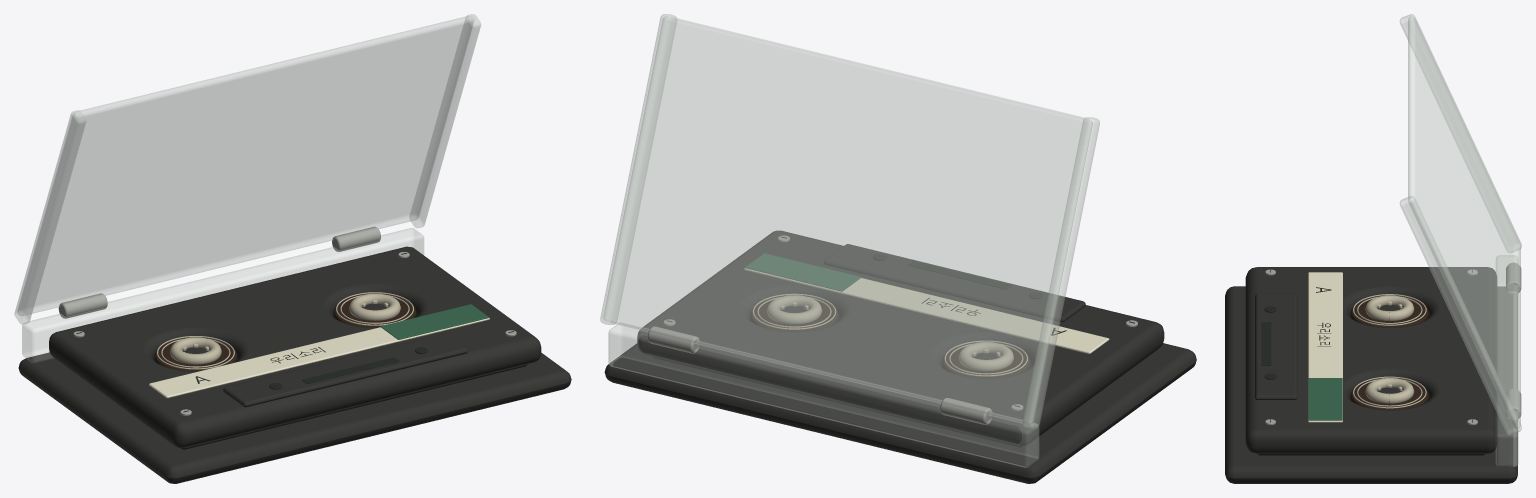
The picture shows the model from 3 angles, left to right: view 1: azimuth 30°, elevation 25°; view 2: azimuth 150°, elevation 25°; view 3: azimuth 270°, elevation 25°; orthographic projection. The views are drawn at different scales.
Visible parts, largest first — view 1: Clear cover pane, Compact cassette body, Cassette case base, Rear case spine, Raised head-access surround, Narrow adhesive label, Clear case edge, Clear case edge.001, Green label stripe, Toothed ivory hub.001, Toothed ivory hub, Visible ferric tape coil (+5 smaller); view 2: Clear cover pane, Compact cassette body, Cassette case base, Rear case spine, Raised head-access surround, Clear case edge, Clear case edge.001, Narrow adhesive label, Green label stripe, Toothed ivory hub.001, Toothed ivory hub, Visible ferric tape coil (+5 smaller); view 3: Compact cassette body, Clear cover pane, Cassette case base, Clear case edge.001, Clear case edge, Raised head-access surround, Narrow adhesive label, Rear case spine, Green label stripe, Visible ferric tape coil.001, Visible ferric tape coil, Toothed ivory hub.001 (+6 smaller).
Boxes of the visible parts, x1,y1,x2,y2 form: Clear cover pane: (17,16,474,315); Compact cassette body: (49,246,541,447); Cassette case base: (18,352,571,483); Rear case spine: (22,228,424,362); Raised head-access surround: (223,333,467,407); Narrow adhesive label: (149,318,489,398); Clear case edge: (14,110,86,324); Clear case edge.001: (409,14,481,228); Green label stripe: (380,304,488,339); Toothed ivory hub.001: (349,293,400,320); Toothed ivory hub: (170,337,221,364); Visible ferric tape coil: (154,337,237,371); Clear cover pane: (603,16,1092,424); Compact cassette body: (637,230,1164,445); Cassette case base: (604,343,1196,483); Rear case spine: (608,322,1039,467); Raised head-access surround: (823,244,1085,322); Clear case edge: (1023,117,1099,428); Clear case edge.001: (600,14,676,324); Narrow adhesive label: (744,268,1109,353); Green label stripe: (745,253,861,291); Toothed ivory hub.001: (766,295,822,324); Toothed ivory hub: (958,342,1013,371); Visible ferric tape coil: (942,342,1030,378); Compact cassette body: (1245,267,1497,453); Clear cover pane: (1408,16,1520,428); Cassette case base: (1225,286,1517,483); Clear case edge.001: (1399,196,1521,435); Clear case edge: (1399,14,1521,252); Raised head-access surround: (1255,293,1297,399); Narrow adhesive label: (1308,272,1342,422); Rear case spine: (1495,255,1518,466); Green label stripe: (1308,378,1342,420); Visible ferric tape coil.001: (1350,378,1428,409); Visible ferric tape coil: (1350,295,1428,327); Toothed ivory hub.001: (1365,378,1414,403).
Bounding box in the file's own units: 0.3 × 0.2154 × 0.2014.
